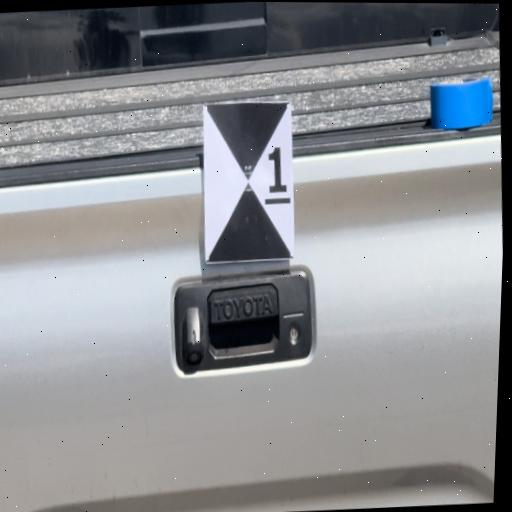target1: (198, 100, 299, 260)
